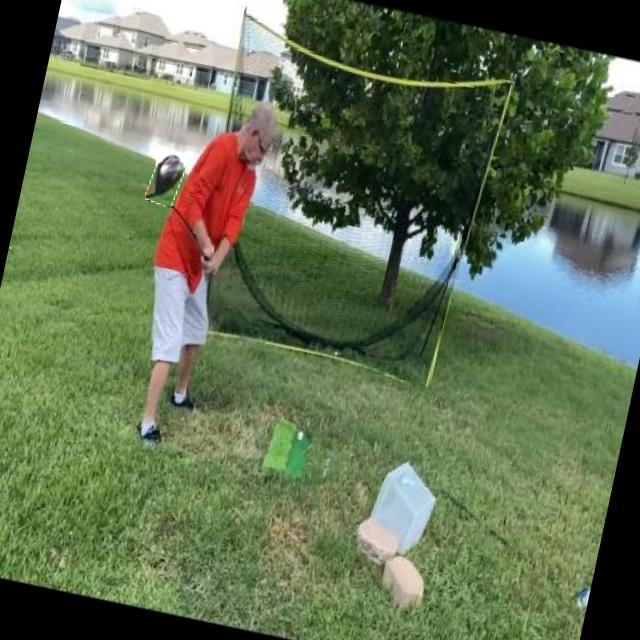club head: (145, 147, 188, 208)
